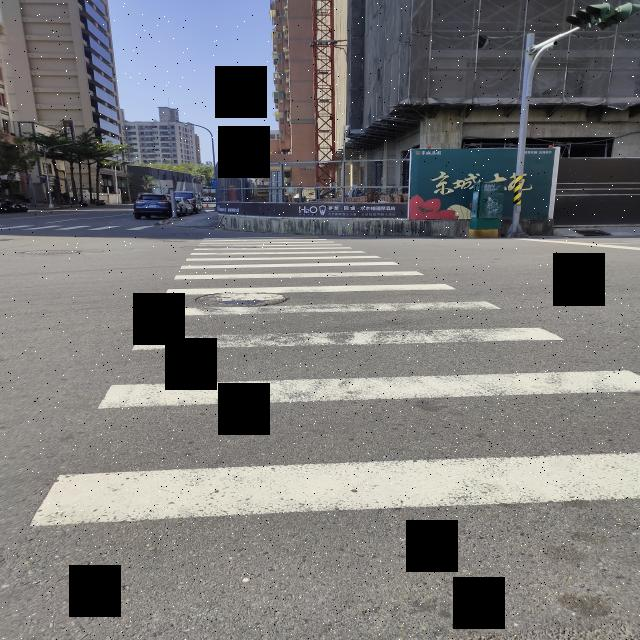zebra crossing: (19, 238, 640, 532)
